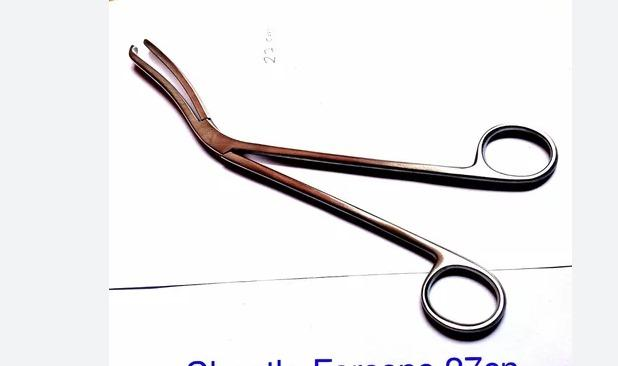Cheatle Forceps: (128, 36, 562, 343)
